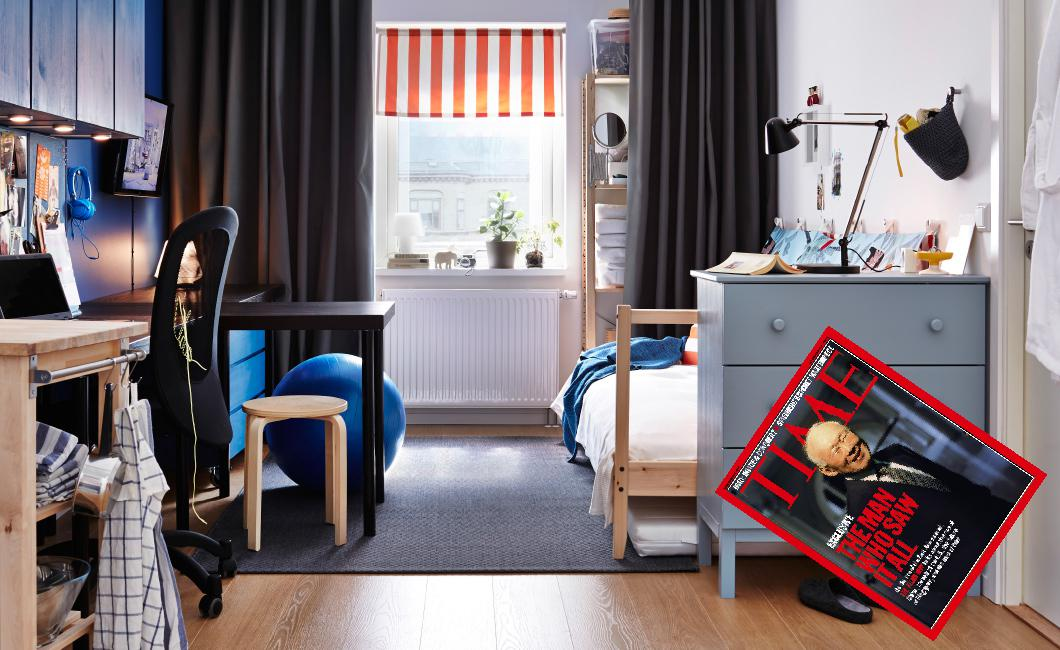times: (720, 321, 1044, 641)
